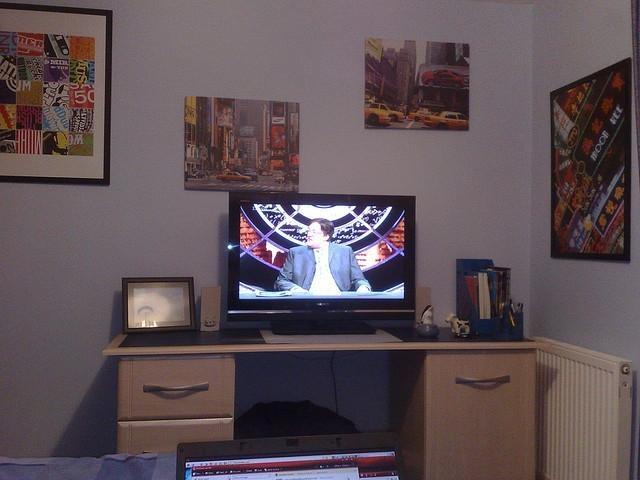car: (420, 110, 470, 130), (408, 108, 431, 122)
